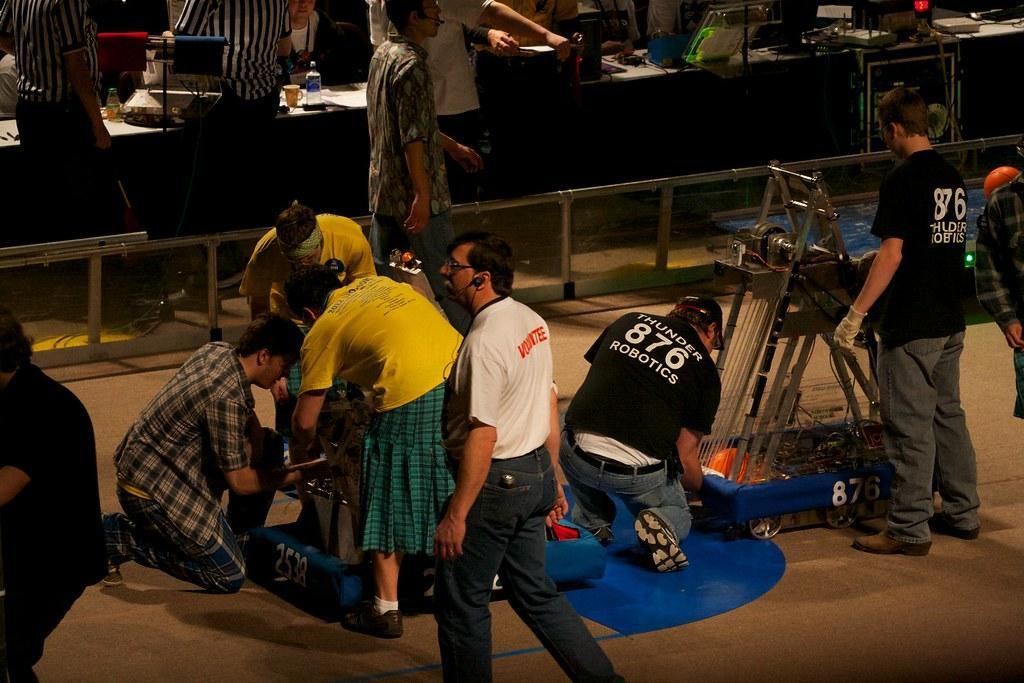robot: (246, 221, 610, 630), (673, 153, 923, 555)
